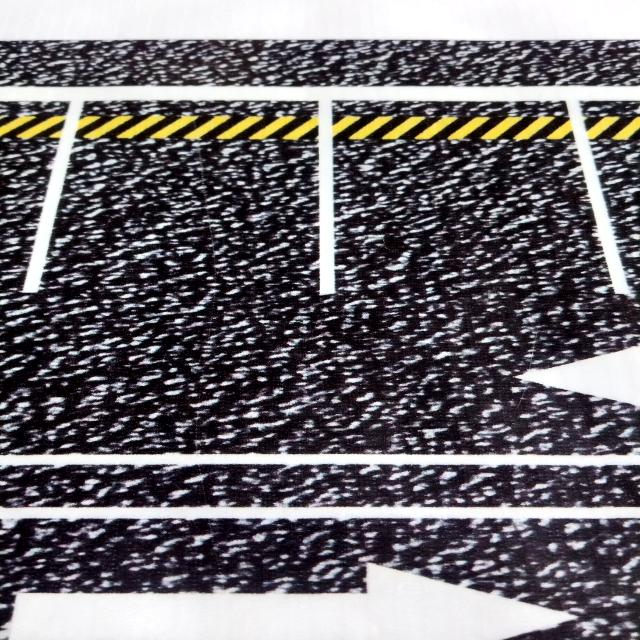slots: (40, 102, 319, 313), (335, 139, 612, 320)
